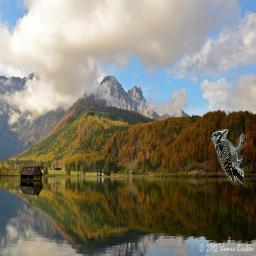Woodpecker: (211, 129, 247, 186)
